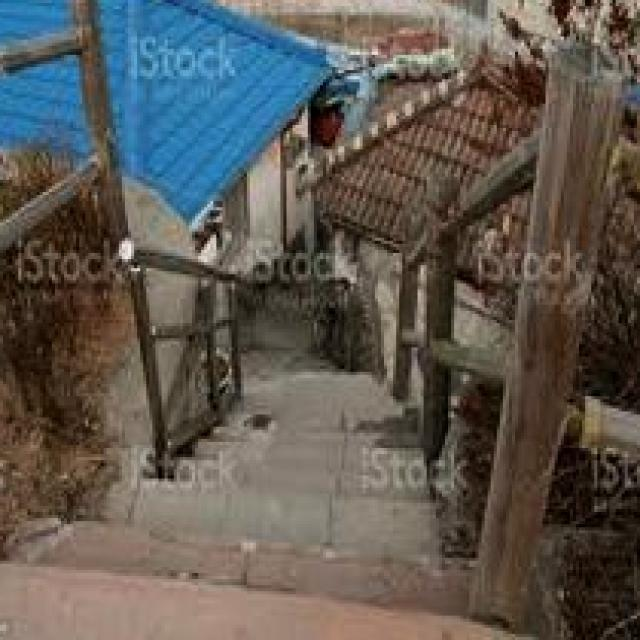downstair: (53, 428, 428, 629)
